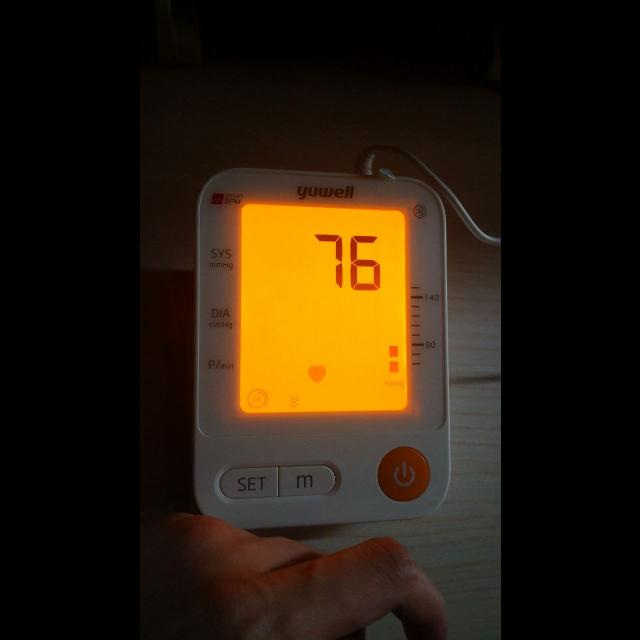Blood-Pressure-Monitor: (192, 167, 452, 523)
